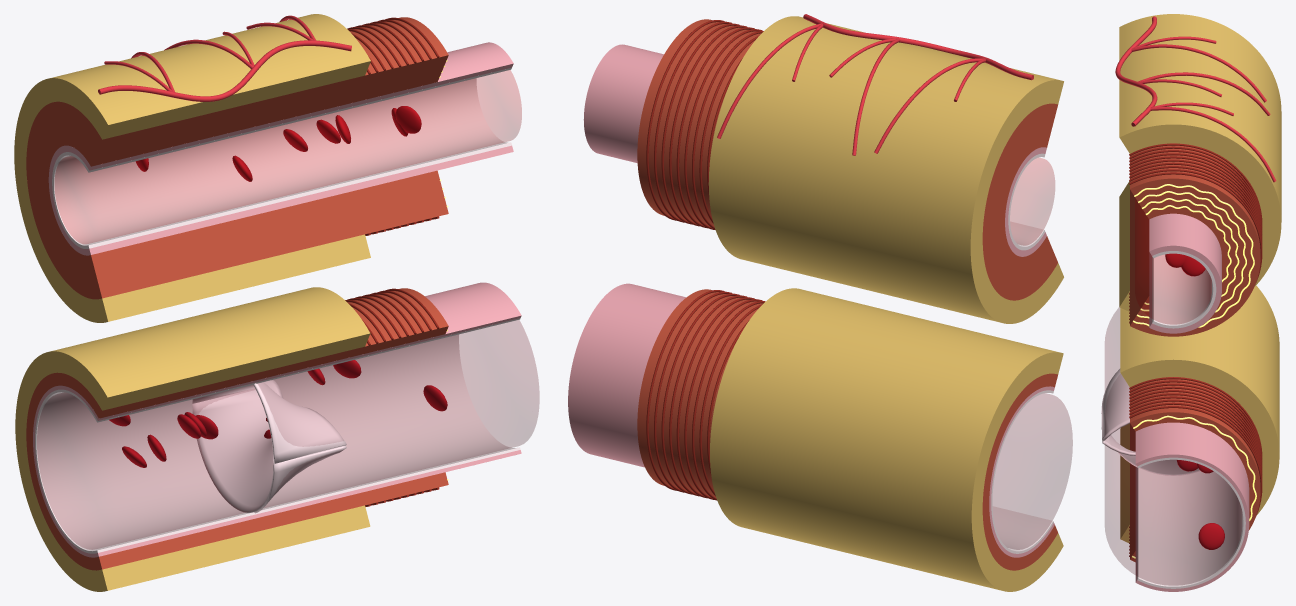
The model's file is vessels.glb.
3 renders of one model, left to right at view 1: azimuth 30°, elevation 25°; view 2: azimuth 150°, elevation 25°; view 3: azimuth 270°, elevation 25°, orthographic. The views are drawn at different scales.
Visible parts, largest first — view 1: cz-vein, cz-endothelium.001, cz-media, cz-endothelium, cz-artery, cz-externa.001, cz-externa, cz-media.001, cz-valves, cz-intima, cz-intima.001, cz-vasa (+4 smaller); view 2: cz-externa.001, cz-externa, cz-media, cz-media.001, cz-intima.001, cz-vein, cz-intima, cz-smooth-muscle.001, cz-smooth-muscle, cz-vasa, cz-artery, cz-endothelium.001 (+1 smaller); view 3: cz-externa, cz-vein, cz-externa.001, cz-media, cz-endothelium.001, cz-intima.001, cz-media.001, cz-artery, cz-smooth-muscle.001, cz-smooth-muscle, cz-endothelium, cz-intima (+6 smaller).
Part boxes in pixels (box(x1,y1,x2,y2)): cz-vein: box(37, 320, 539, 549); cz-endothelium.001: box(35, 318, 520, 553); cz-media: box(26, 17, 448, 299); cz-endothelium: box(52, 67, 511, 248); cz-artery: box(55, 70, 521, 243); cz-externa.001: box(15, 287, 370, 591); cz-externa: box(14, 14, 370, 322); cz-media.001: box(26, 288, 448, 570); cz-valves: box(192, 380, 346, 513); cz-intima: box(48, 42, 513, 255); cz-intima.001: box(33, 282, 521, 557); cz-vasa: box(98, 15, 351, 101); cz-externa.001: box(710, 288, 1063, 591); cz-externa: box(708, 16, 1063, 323); cz-media: box(637, 19, 1057, 300); cz-media.001: box(637, 289, 1057, 570); cz-intima.001: box(568, 283, 1054, 557); cz-vein: box(993, 393, 1072, 549); cz-intima: box(583, 44, 1046, 256); cz-smooth-muscle.001: box(646, 290, 765, 500); cz-smooth-muscle: box(646, 20, 763, 229); cz-vasa: box(717, 14, 1033, 155); cz-artery: box(1010, 158, 1054, 245); cz-endothelium.001: box(991, 390, 1053, 553); cz-externa: box(1119, 14, 1281, 311); cz-vein: box(1105, 307, 1241, 585); cz-externa.001: box(1120, 285, 1279, 542); cz-media: box(1130, 143, 1260, 336); cz-endothelium.001: box(1137, 457, 1245, 588); cz-intima.001: box(1135, 422, 1249, 591); cz-media.001: box(1130, 377, 1260, 562); cz-artery: box(1135, 198, 1211, 324); cz-smooth-muscle.001: box(1129, 377, 1262, 556); cz-smooth-muscle: box(1129, 143, 1262, 323); cz-endothelium: box(1152, 251, 1216, 328); cz-intima: box(1149, 213, 1221, 333).
Bounding box in the file's own units: 11.1 × 12.54 × 4.75.
